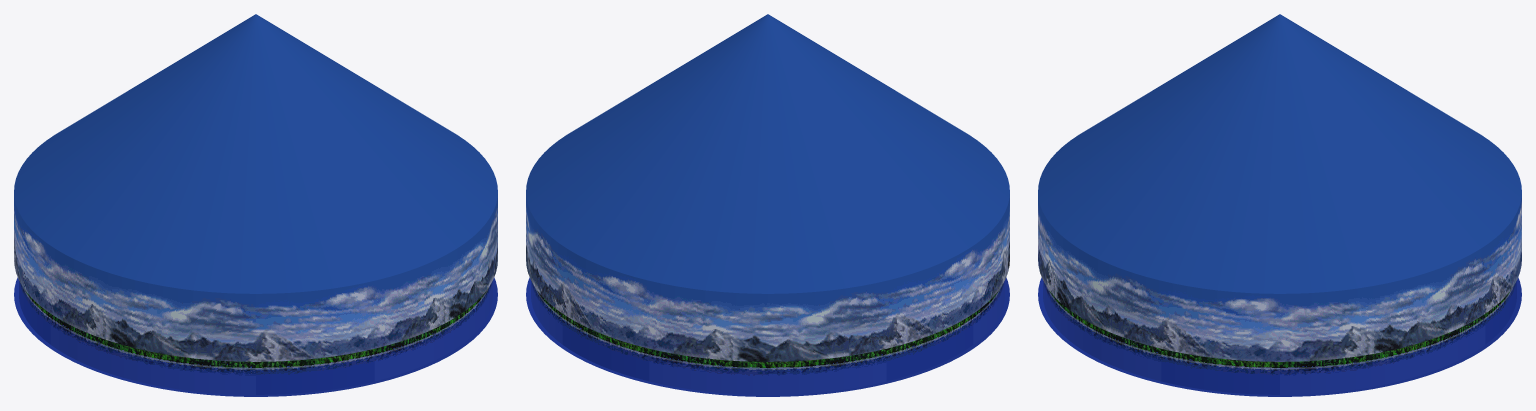
File: sky-al1.glb
3 views of the same model, side by side, from view 1: azimuth 30°, elevation 25°; view 2: azimuth 150°, elevation 25°; view 3: azimuth 270°, elevation 25° (orthographic).
Visible parts, largest first — view 1: sky-al1; view 2: sky-al1; view 3: sky-al1.
Boxes of the visible parts, x1=… form: sky-al1: x1=14, y1=14, x2=497, y2=396; sky-al1: x1=526, y1=14, x2=1009, y2=396; sky-al1: x1=1038, y1=14, x2=1521, y2=396.
Size of the model in its own units: 2 by 1.7 by 2.
Materials: 4 (4 with a texture image).
